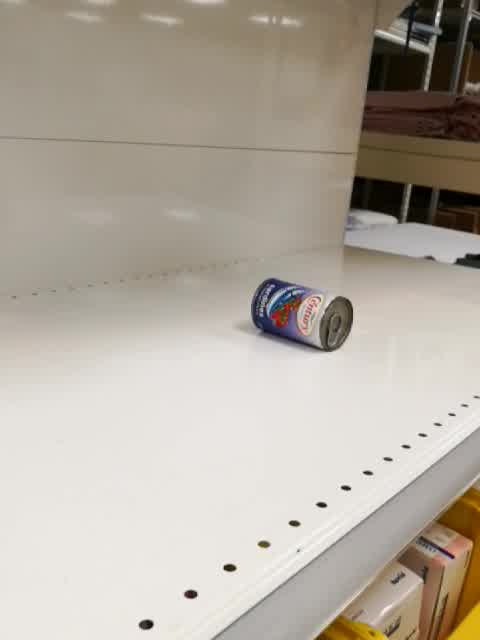sardine: (250, 277, 355, 353)
